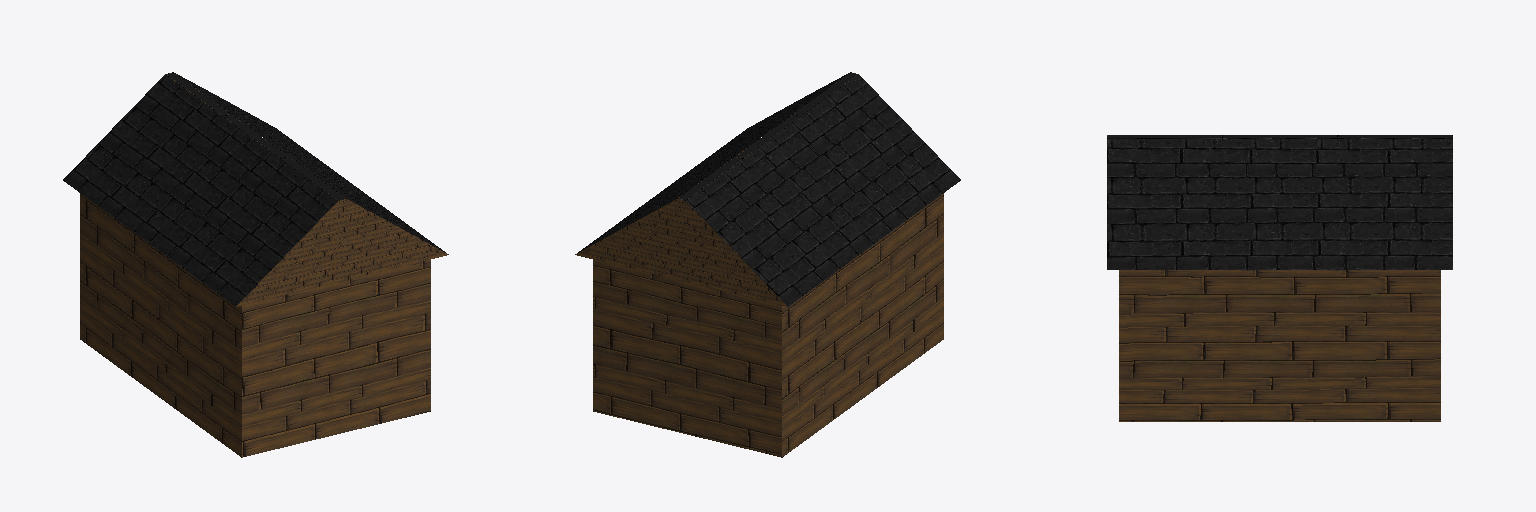
3 renders of one model, left to right at view 1: azimuth 30°, elevation 25°; view 2: azimuth 150°, elevation 25°; view 3: azimuth 270°, elevation 25°, orthographic.
Parts seen in each view (by area): view 1: mesh01; view 2: mesh01; view 3: mesh01.
Part boxes in pixels (x1,y1,x2,y2): mesh01: (63, 72, 448, 457); mesh01: (575, 72, 960, 457); mesh01: (1107, 135, 1452, 421).
Size of the model in its own units: 1073 by 1147 by 1507.
1 materials, 1 textured.